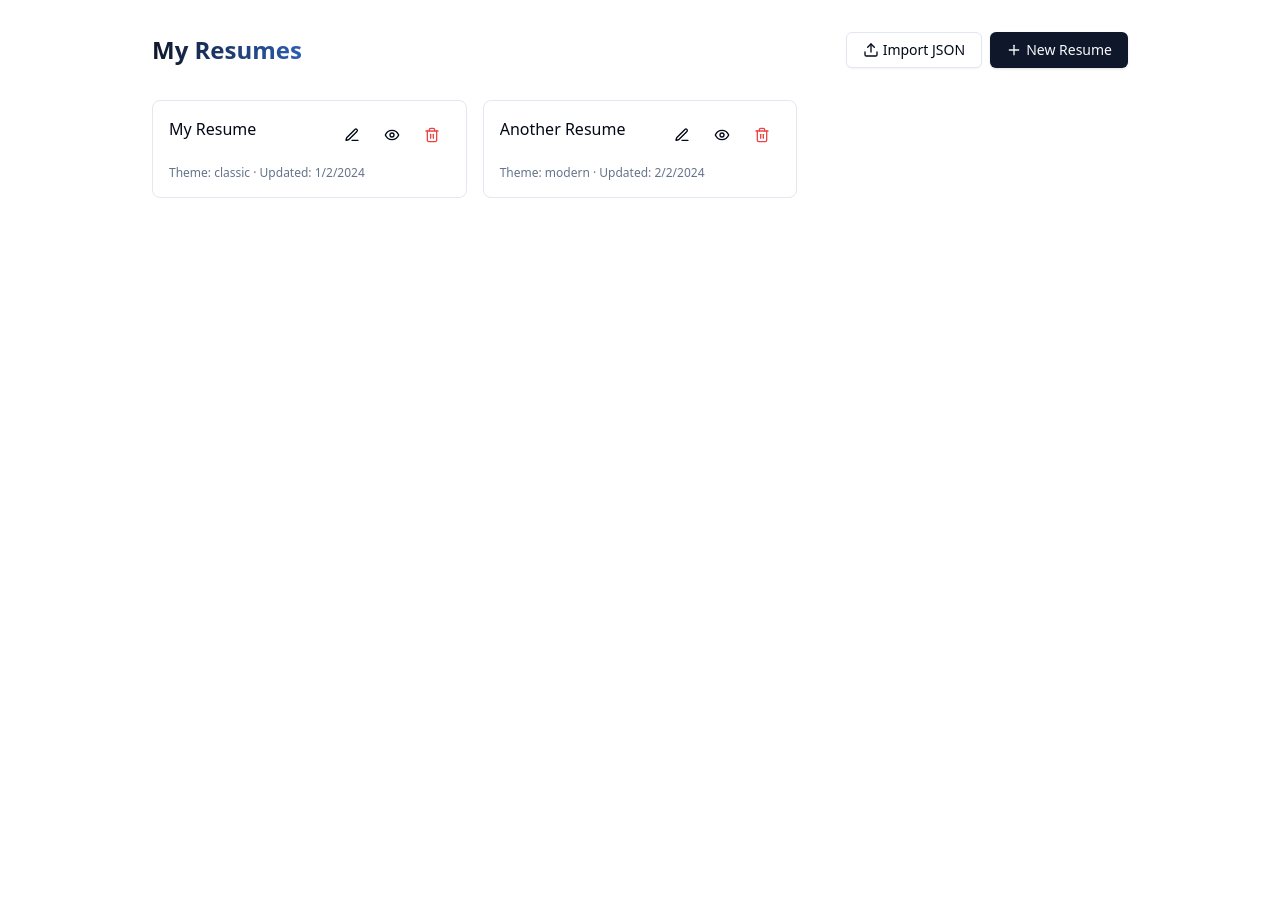
Test: HomePage › opens confirm dialog when delete button clicked
Click the 1st button titled "Delete" at [432, 135], box top-left (414, 117), bottom-right (450, 153)
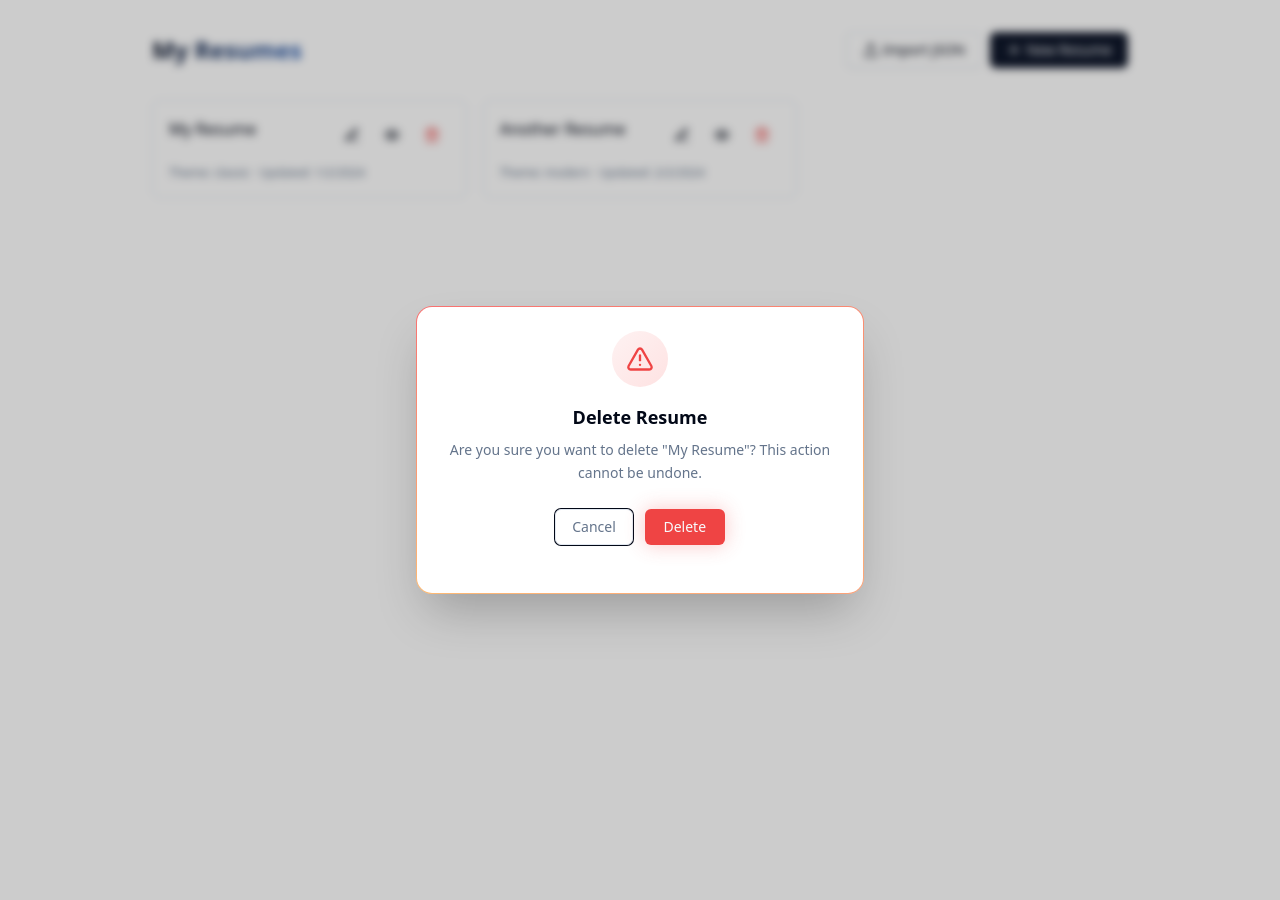
Check: the heading "Delete Resume" is shown, box top-left (573, 403), bottom-right (707, 431)
Check: the text "delete \"My Resume\"" is shown, box top-left (450, 440), bottom-right (830, 482)
